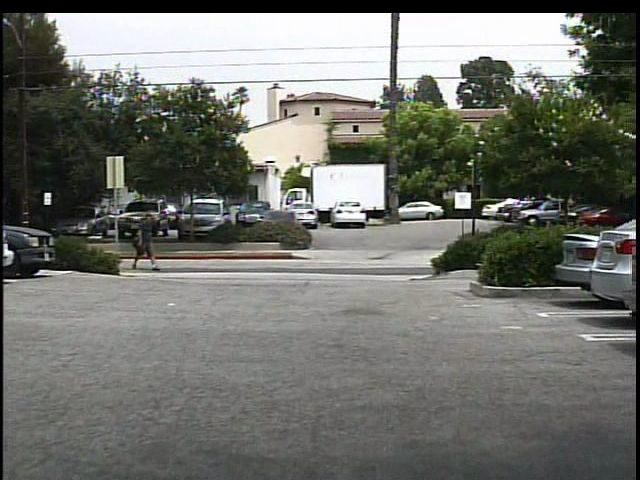person: (133, 211, 164, 275)
